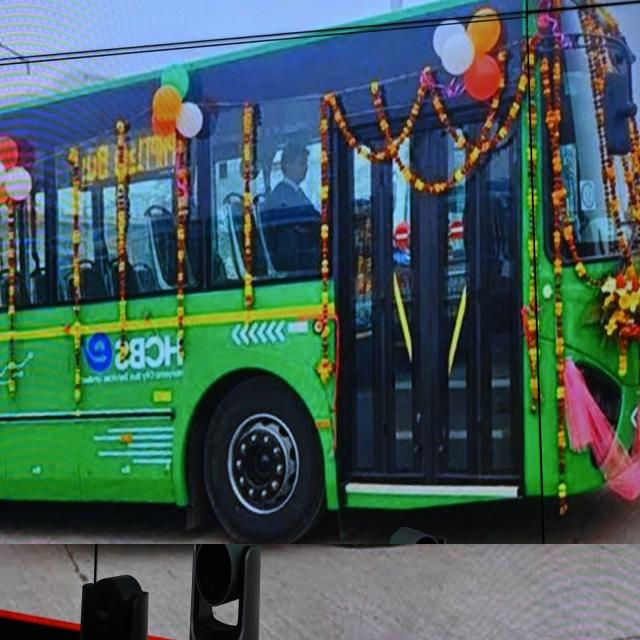bus: (0, 0, 640, 544)
